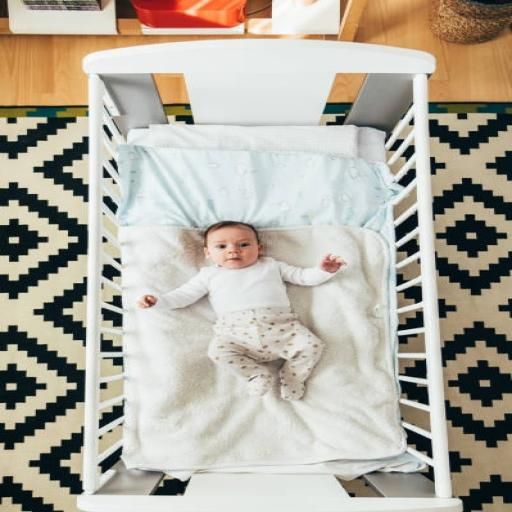baby: (161, 221, 346, 400)
crib: (125, 194, 407, 498)
